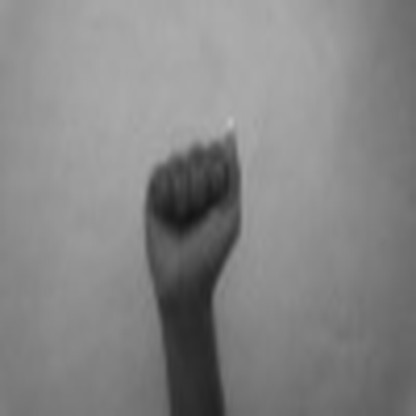a: (137, 114, 246, 297)
